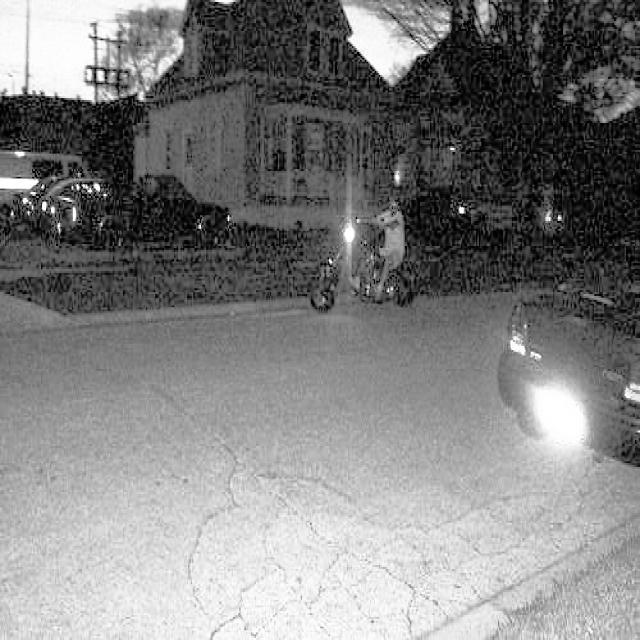Car: (491, 235, 640, 479)
Motorcycle: (310, 218, 404, 334)
Person: (376, 175, 410, 309)
